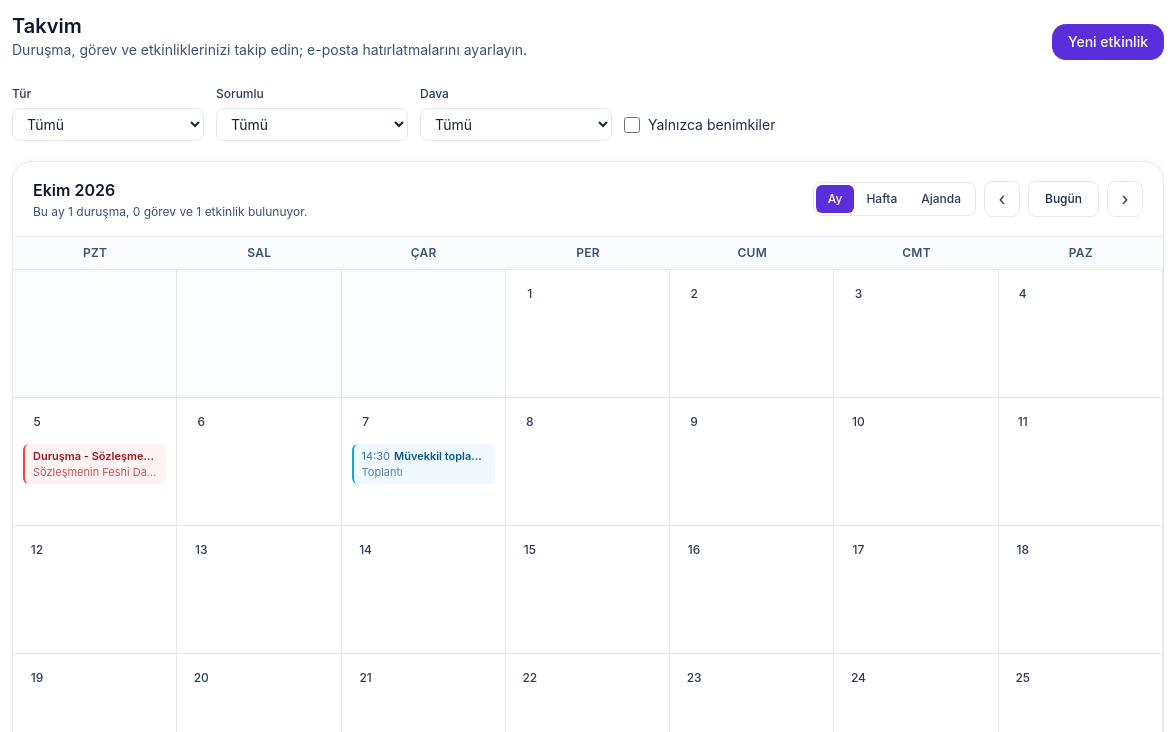
it: CalendarView › filters to my items and writes the filter to the URL
The width and height of the screenshot is (1176, 732).
Check: the text "Müvekkil toplantısı" is shown, box [394,449,494,463]
What coordinates should you click on to do the following:
click the checkbox labelled "Yalnızca benimkiler"
I would click on:
 (632, 125)
Its box is [624,117,640,133].
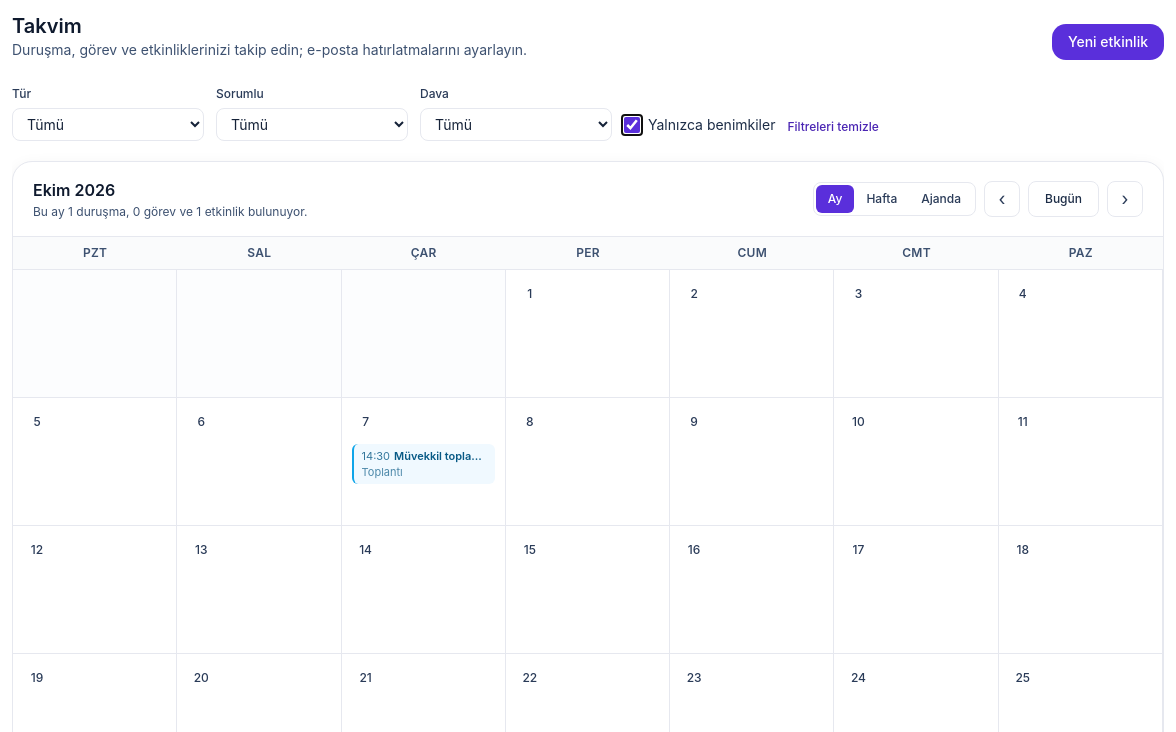
Check: the text "Müvekkil toplantısı" is shown, box [394,449,494,463]
Check: the button "Duruşma - Sözleşmenin Feshi Davası" is gone
